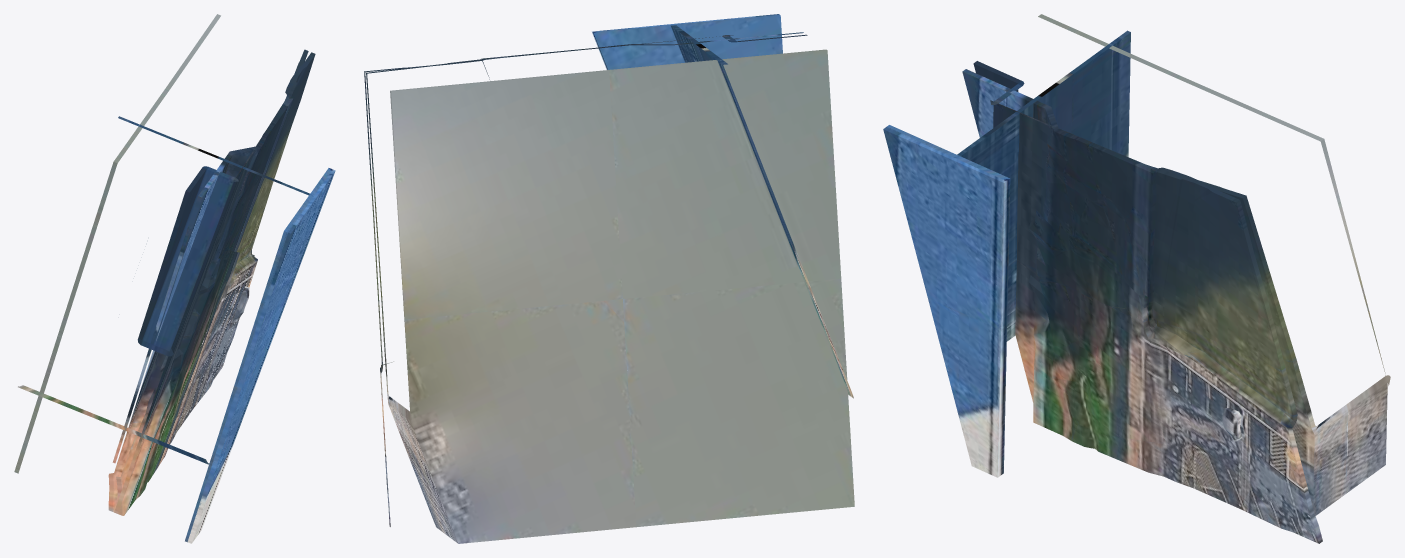
The model's file is congresso_tile_156.glb.
The picture shows the model from 3 angles, left to right: view 1: azimuth 30°, elevation 25°; view 2: azimuth 150°, elevation 25°; view 3: azimuth 270°, elevation 25°; orthographic projection. The views are drawn at different scales.
Bounding box in the file's own units: 41.03 × 42.55 × 45.27.
2 materials, 2 textured.
